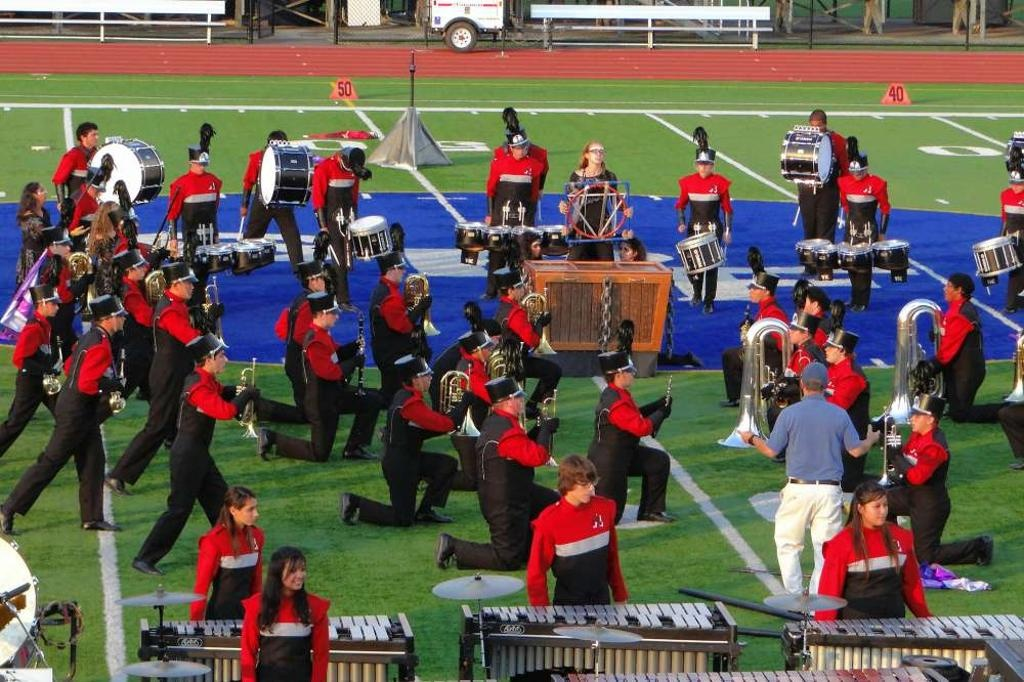human_face: (280, 558, 306, 590), (236, 498, 260, 528), (864, 498, 888, 524), (574, 479, 596, 504), (207, 350, 229, 373), (823, 342, 841, 362), (177, 278, 195, 298), (106, 313, 126, 331), (320, 311, 338, 329), (908, 412, 924, 432), (942, 281, 956, 303), (44, 300, 60, 318), (588, 145, 602, 165), (312, 274, 326, 294), (54, 243, 70, 259), (620, 242, 634, 260), (132, 262, 146, 280), (33, 186, 47, 204), (620, 368, 632, 388), (392, 264, 404, 284), (86, 129, 98, 149), (416, 373, 430, 390), (696, 160, 710, 176), (512, 145, 526, 161), (748, 284, 760, 302), (808, 119, 822, 134), (802, 294, 812, 314), (192, 159, 206, 173), (788, 328, 800, 344), (1010, 178, 1022, 193), (531, 240, 541, 258), (850, 168, 864, 180), (479, 347, 489, 363), (512, 396, 520, 416), (489, 334, 501, 346), (512, 285, 522, 299), (92, 187, 102, 201)
